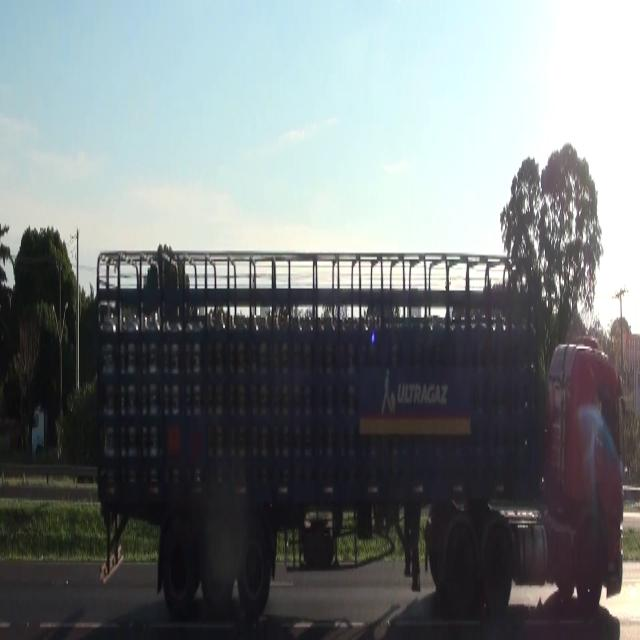-axle: (162, 518, 197, 606), (240, 520, 272, 614), (202, 520, 236, 608), (449, 531, 478, 613), (484, 533, 511, 614), (579, 531, 606, 607)
